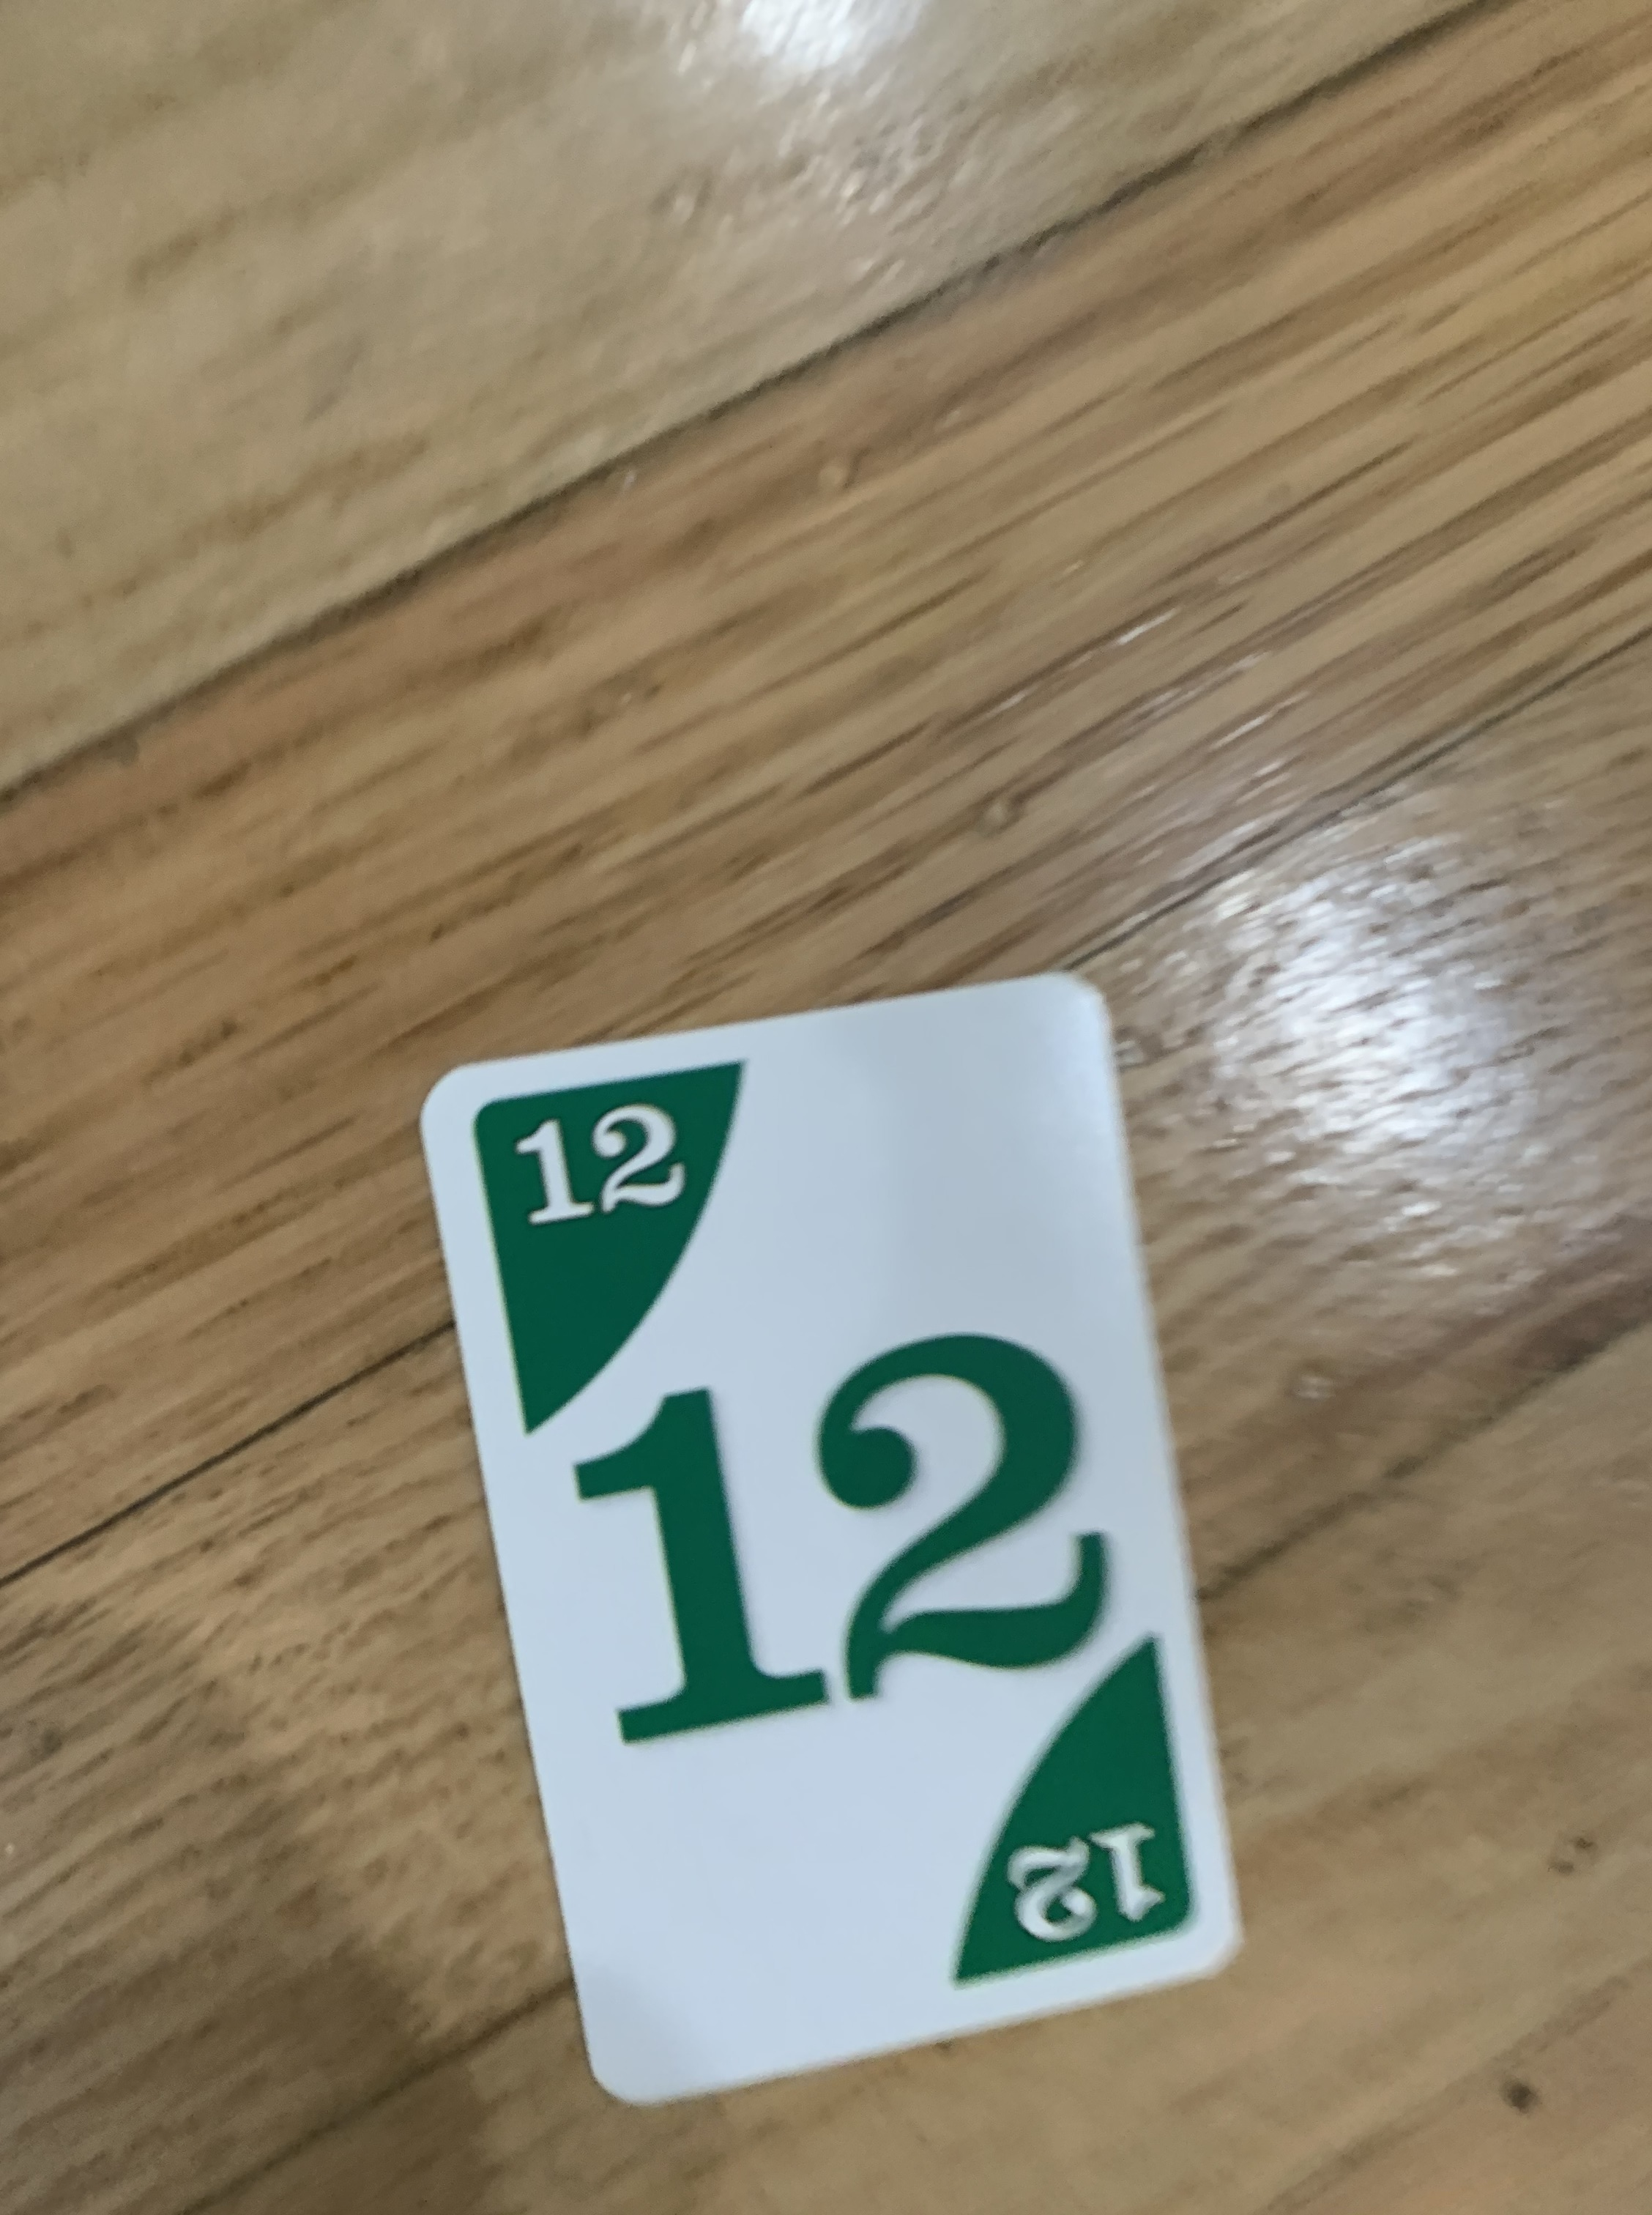twelve: (404, 953, 1253, 2113)
